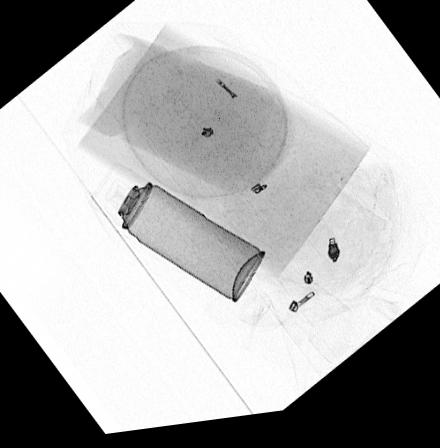Sprayer: (90, 165, 267, 308)
